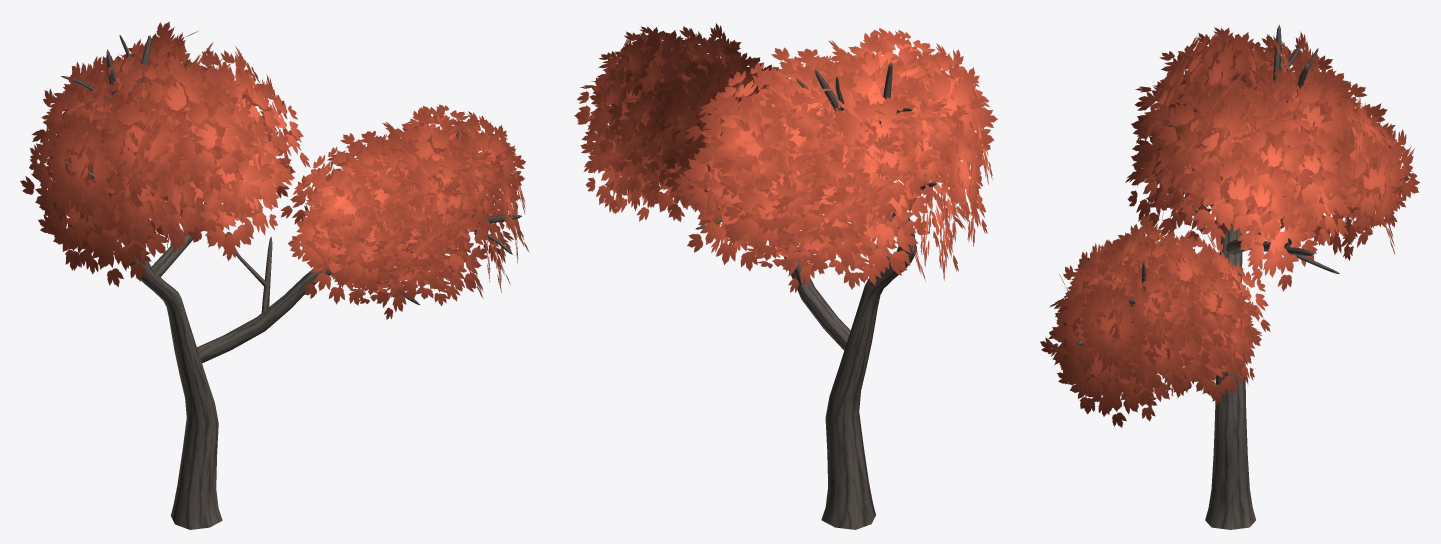
Rendered from mapletree_1.glb.
3 renders of one model, left to right at view 1: azimuth 30°, elevation 25°; view 2: azimuth 150°, elevation 25°; view 3: azimuth 270°, elevation 25°, orthographic. The views are drawn at different scales.
Parts seen in each view (by area): view 1: MapleTree_1; view 2: MapleTree_1; view 3: MapleTree_1.
Part boxes in pixels (<box>): MapleTree_1: <box>20,21,528,529</box>; MapleTree_1: <box>574,23,997,529</box>; MapleTree_1: <box>1040,25,1420,529</box>.
Size of the model in its own units: 6.23 by 6.64 by 4.9.
2 materials, 2 textured.
